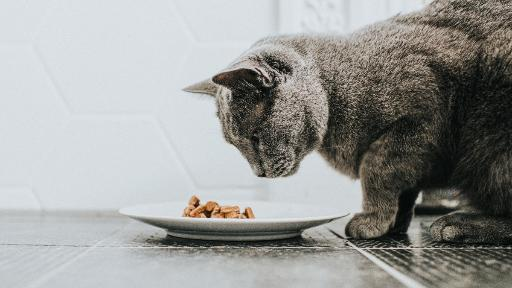cat_eating: (183, 0, 512, 243), (119, 196, 346, 240)
